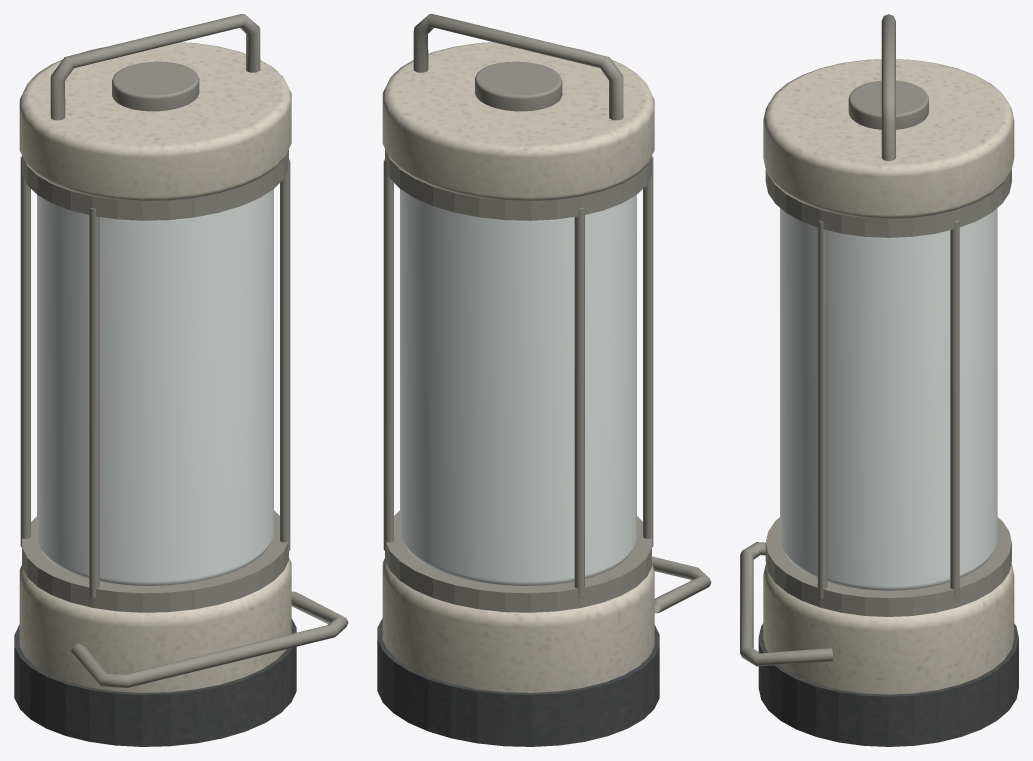
File: 02-control-sample.fbx
3 views of the same model, side by side, from view 1: azimuth 30°, elevation 25°; view 2: azimuth 150°, elevation 25°; view 3: azimuth 270°, elevation 25° (orthographic). The views are drawn at different scales.
Visible parts, largest first — view 1: glass vessel, top lid, enamel base, foot, lower metal rim, top rim, lower protective grip, outer tie rod, carry handle, outer tie rod.001, outer tie rod.002, lid dial; view 2: glass vessel, top lid, enamel base, foot, lower metal rim, top rim, outer tie rod.002, carry handle, outer tie rod.003, outer tie rod, lid dial, lower protective grip; view 3: glass vessel, top lid, enamel base, foot, lower metal rim, top rim, outer tie rod.001, outer tie rod.003, lower protective grip, lid dial, carry handle.
Part boxes in pixels (x1,y1,x2,y2): glass vessel: (37,189,273,585); top lid: (19,42,291,201); enamel base: (19,558,291,692); foot: (14,618,296,746); lower metal rim: (22,510,288,612); top rim: (22,149,288,220); lower protective grip: (71,591,348,687); outer tie rod: (89,208,99,598); carry handle: (50,14,260,120); outer tie rod.001: (280,159,290,551); outer tie rod.002: (20,156,30,547); lid dial: (112,61,199,111); glass vessel: (400,189,636,585); top lid: (382,42,654,201); enamel base: (382,558,654,692); foot: (377,618,659,746); lower metal rim: (385,510,651,612); top rim: (385,149,651,220); outer tie rod.002: (574,208,584,598); carry handle: (413,14,623,120); outer tie rod.003: (383,159,393,550); outer tie rod: (643,156,653,547); lid dial: (475,61,562,111); lower protective grip: (652,556,711,613); glass vessel: (780,208,997,590); top lid: (763,59,1014,218); enamel base: (763,563,1014,694); foot: (758,623,1018,746); lower metal rim: (765,517,1011,616); top rim: (765,169,1011,237); outer tie rod.001: (817,220,827,598); outer tie rod.003: (950,220,959,598); lower protective grip: (740,542,832,666); lid dial: (848,80,928,129); carry handle: (881,14,895,161).
Bounding box in the file's own units: 12 × 30 × 12.
5 materials, 5 textured.
